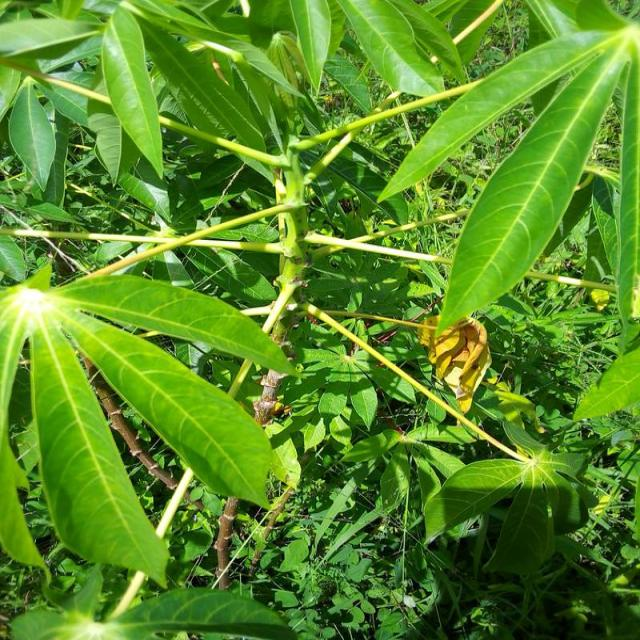cassava leaf: (434, 26, 633, 339), (59, 304, 275, 510), (30, 311, 171, 588), (51, 271, 301, 378), (101, 5, 165, 182)
